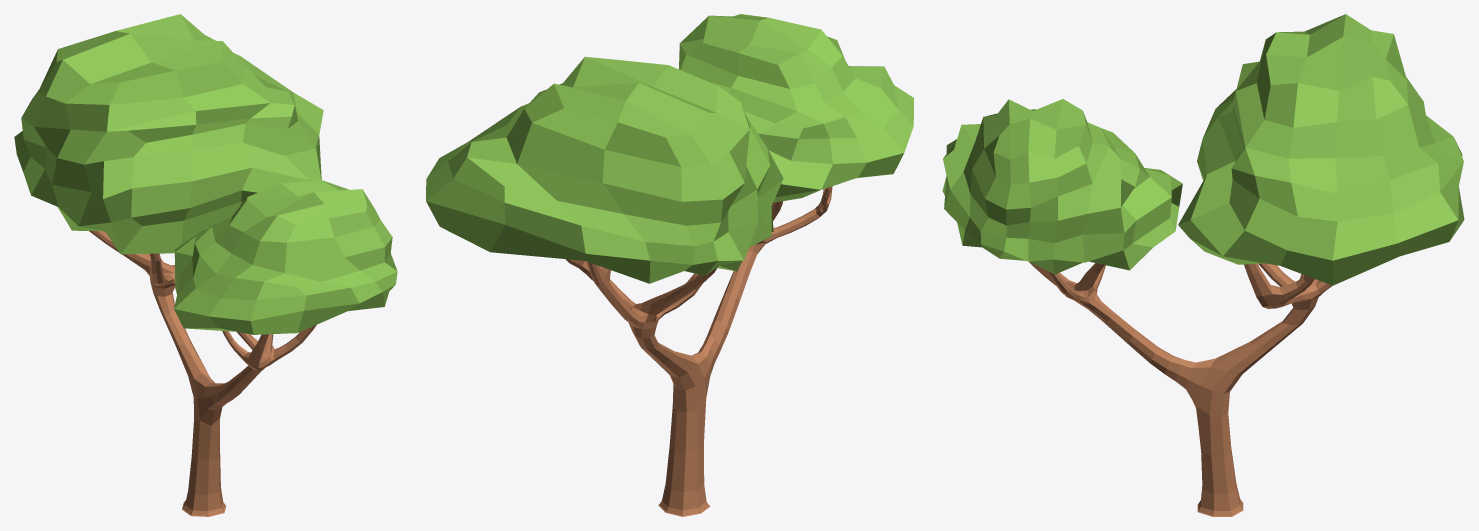
Rendered from tree4.fbx.
The picture shows the model from 3 angles, left to right: view 1: azimuth 30°, elevation 25°; view 2: azimuth 150°, elevation 25°; view 3: azimuth 270°, elevation 25°; orthographic projection. The views are drawn at different scales.
Parts seen in each view (by area): view 1: CommonTree_1.001; view 2: CommonTree_1.001; view 3: CommonTree_1.001.
Part boxes in pixels (x1,y1,x2,y2): CommonTree_1.001: [14, 14, 397, 516]; CommonTree_1.001: [426, 14, 913, 516]; CommonTree_1.001: [942, 14, 1464, 516].
Bounding box in the file's own units: 185 × 266 × 273.
